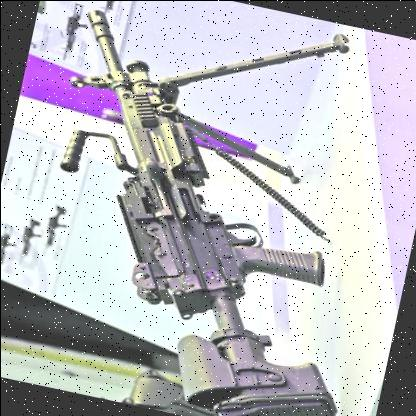rifle: (6, 0, 380, 416), (41, 201, 77, 257), (57, 6, 90, 65), (17, 212, 47, 263), (0, 222, 22, 272), (95, 0, 134, 18)
